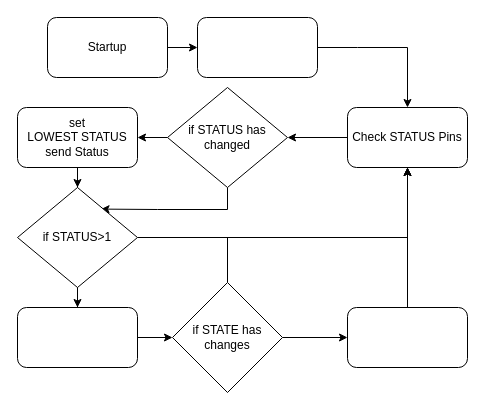
The diagram is 485 pixels wide and 410 high, and some of its shapes have lost their labels. Each missing label, with the centre of its shape:
"Check STATE" belongs at [77,337].
"send State" belongs at [407,337].
"Setup Hardware and Interrupts" belongs at [257,47].
